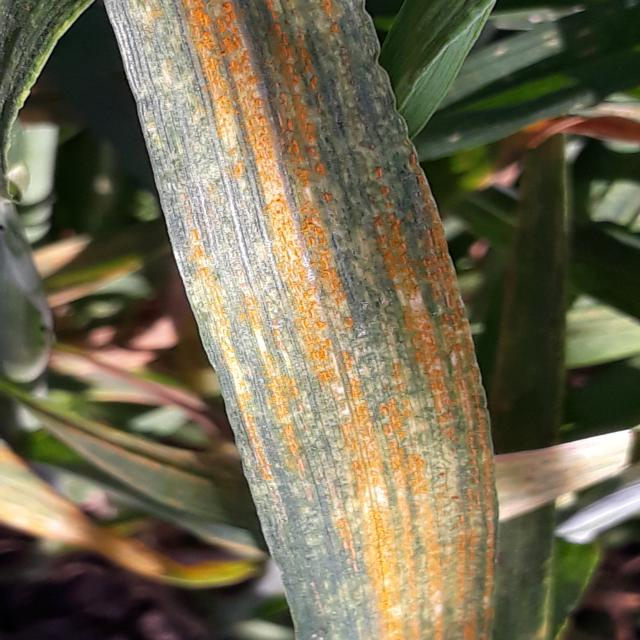yellow_rust: (91, 0, 506, 640), (0, 309, 91, 572), (492, 417, 635, 549), (0, 0, 95, 136), (502, 87, 639, 160)
